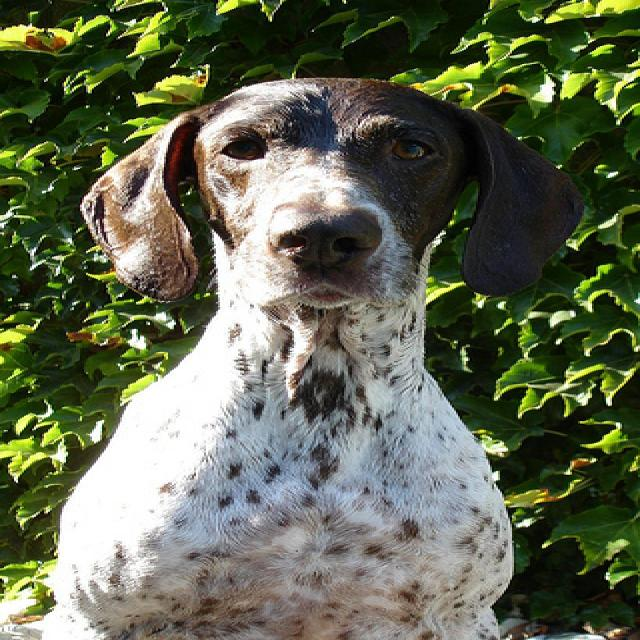dog-german_shorthaired: (2, 69, 610, 637)
